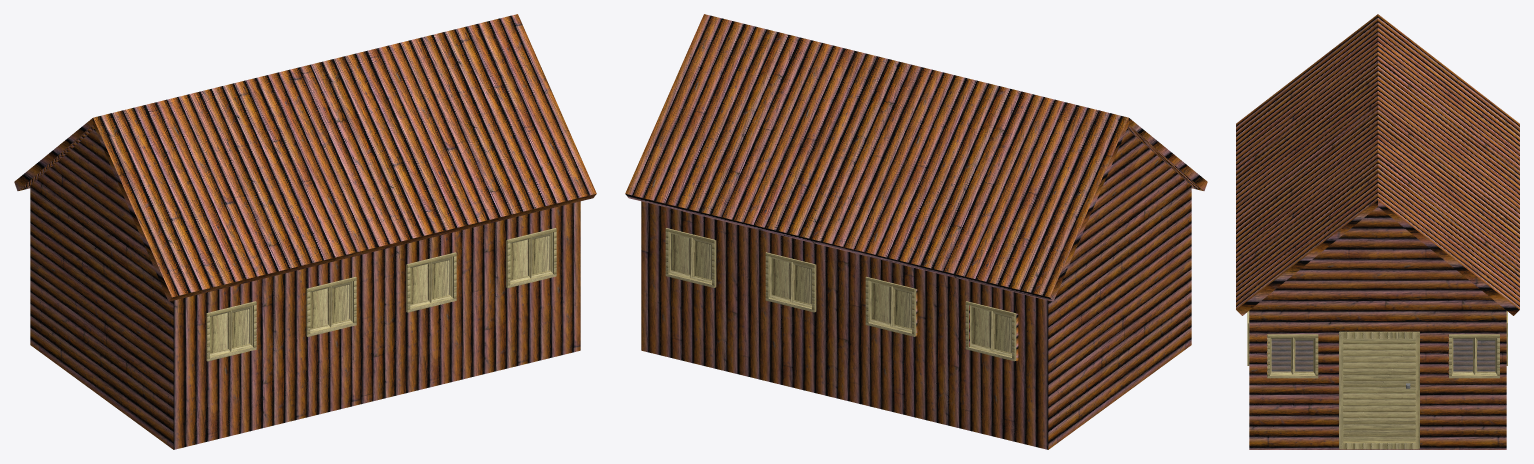
File: Cottage House 1.fbx
The picture shows the model from 3 angles, left to right: view 1: azimuth 30°, elevation 25°; view 2: azimuth 150°, elevation 25°; view 3: azimuth 270°, elevation 25°; orthographic projection. The views are drawn at different scales.
Visible parts, largest first — view 1: pCube44; view 2: pCube44; view 3: pCube44, pCube11.
Boxes of the visible parts, x1,y1,x2,y2 form: pCube44: (14, 14, 596, 449); pCube44: (625, 14, 1207, 449); pCube44: (1236, 14, 1519, 449); pCube11: (1343, 338, 1415, 441).
Size of the model in its own units: 23.69 by 15.03 by 15.24.
4 materials, 4 textured.
